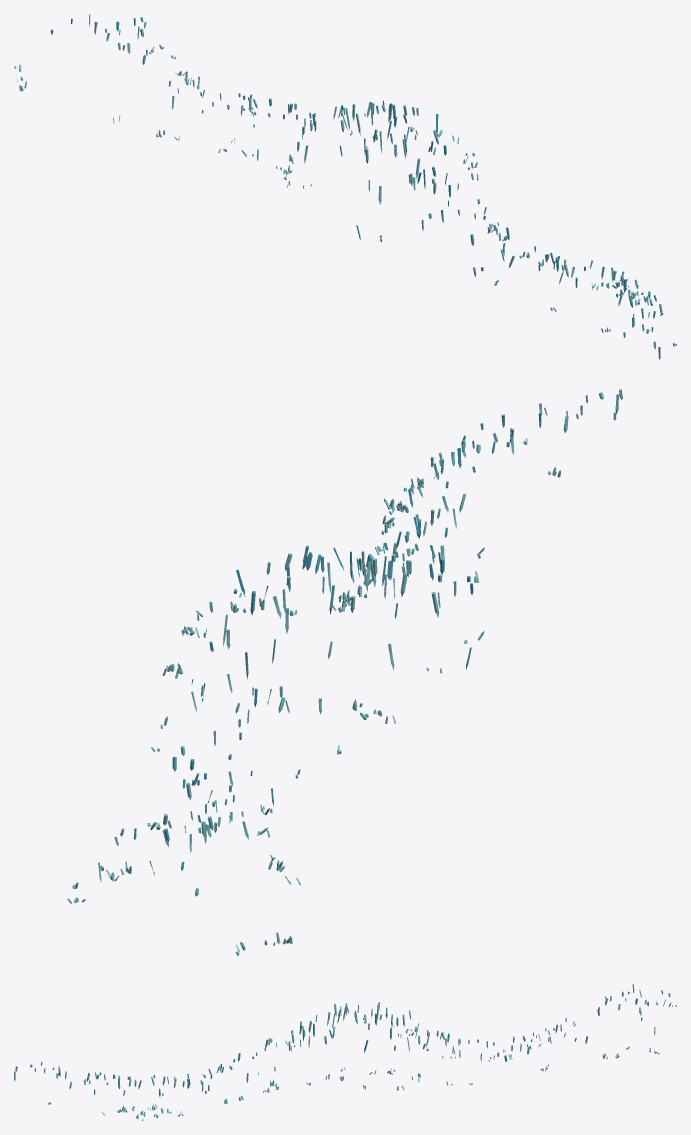
File: cave_echo_grotto_glow_lod1.glb
3 renders of one model, top to bottom at view 1: azimuth 30°, elevation 25°; view 2: azimuth 150°, elevation 25°; view 3: azimuth 270°, elevation 25°, orthographic. The views are drawn at different scales.
Visible parts, largest first — view 1: geometry_0; view 2: geometry_0; view 3: geometry_0.
Part boxes in pixels (left/top/right/bottom): geometry_0: left=14, top=14, right=676, bottom=360; geometry_0: left=67, top=389, right=622, bottom=955; geometry_0: left=14, top=984, right=676, bottom=1120.
Size of the model in its own units: 65.58 by 24.33 by 186.
